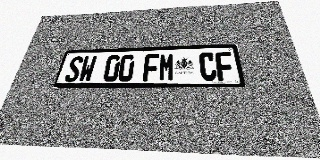0: (103, 55, 121, 82), (117, 55, 135, 81)
C: (199, 52, 217, 81)
F: (215, 52, 235, 80), (143, 54, 159, 81)
M: (159, 53, 174, 81)
S: (64, 56, 84, 82)
W: (78, 56, 97, 82)
